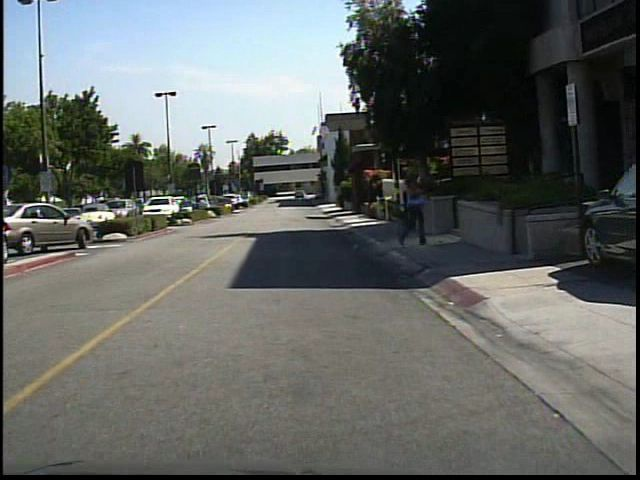person: (398, 167, 431, 251)
